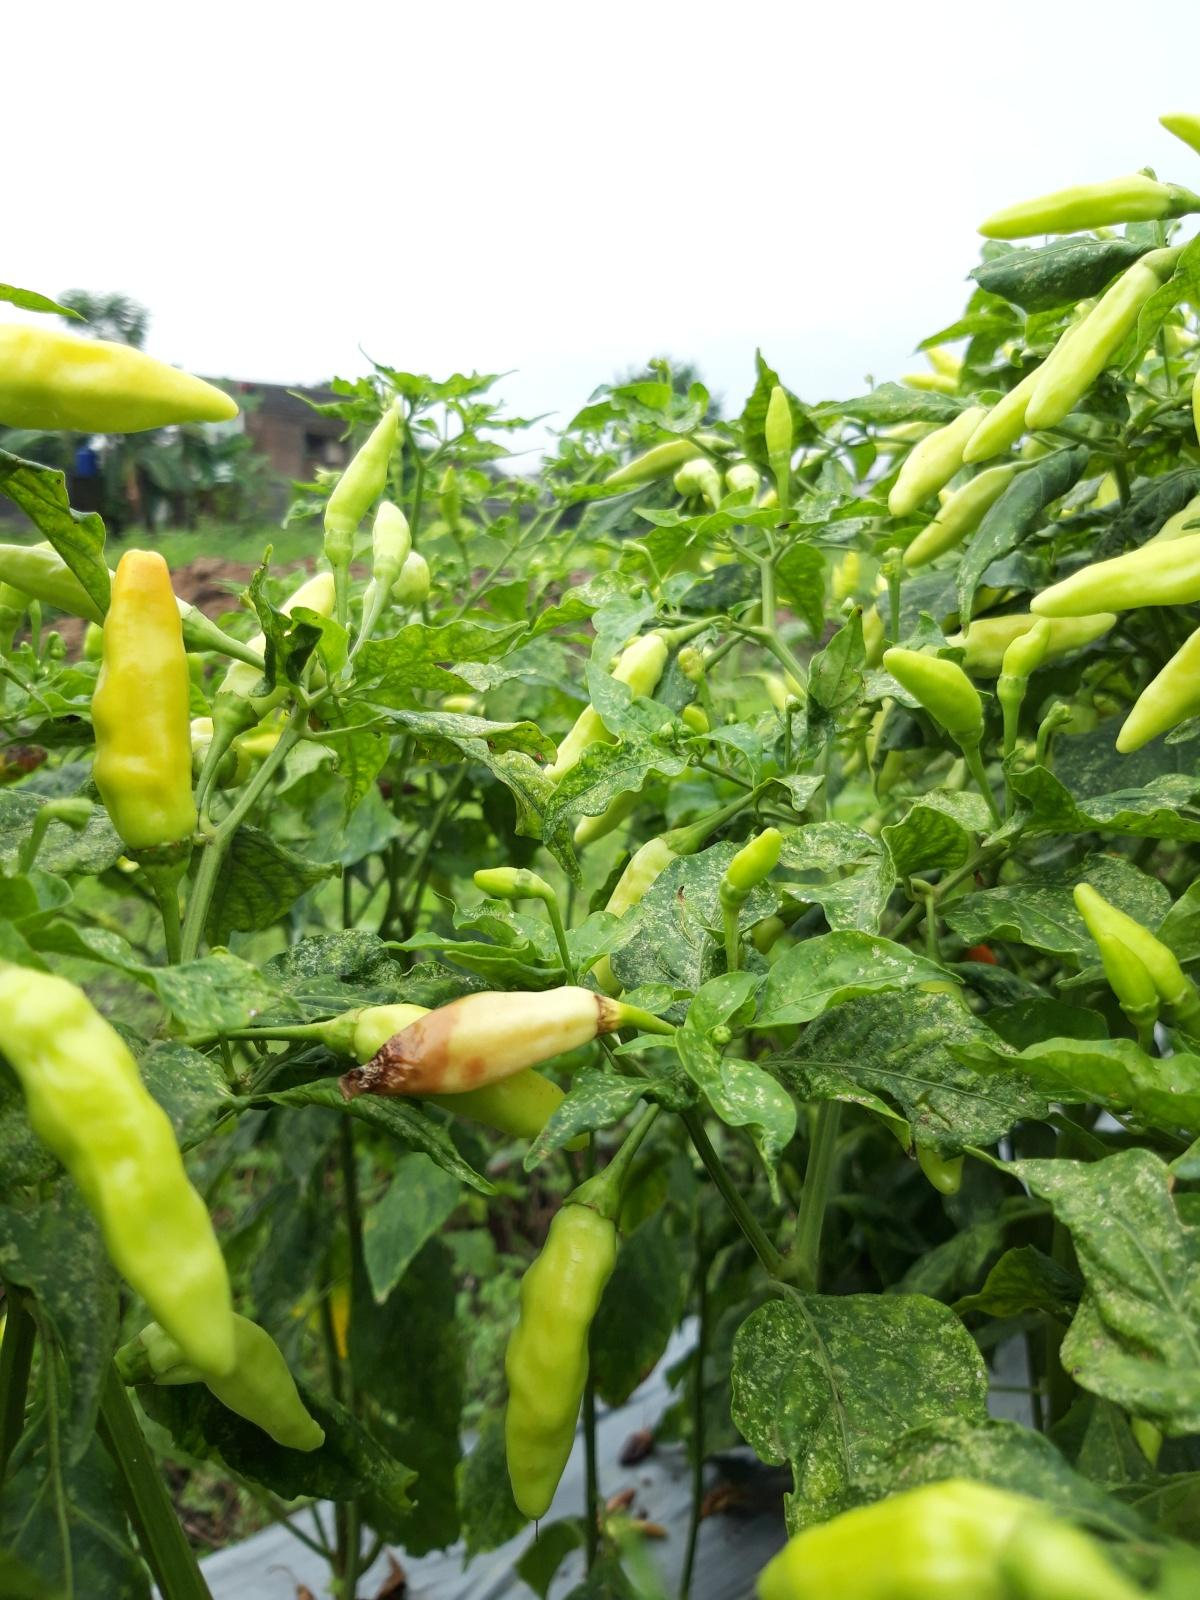antraknosa: (335, 985, 621, 1097)
cabai_normal: (1, 963, 239, 1373), (495, 1170, 629, 1523), (88, 548, 203, 871), (131, 1309, 328, 1453), (1024, 248, 1171, 433), (3, 324, 239, 431), (1073, 882, 1197, 1015), (976, 173, 1192, 239), (903, 464, 1031, 568), (316, 409, 400, 569), (1036, 533, 1200, 609), (940, 612, 1121, 677), (1114, 624, 1200, 757), (881, 648, 986, 745), (604, 435, 724, 485), (1097, 932, 1161, 1023), (718, 826, 783, 900), (996, 619, 1051, 698), (372, 501, 413, 585), (763, 386, 794, 462), (473, 866, 532, 901), (676, 459, 718, 496)
